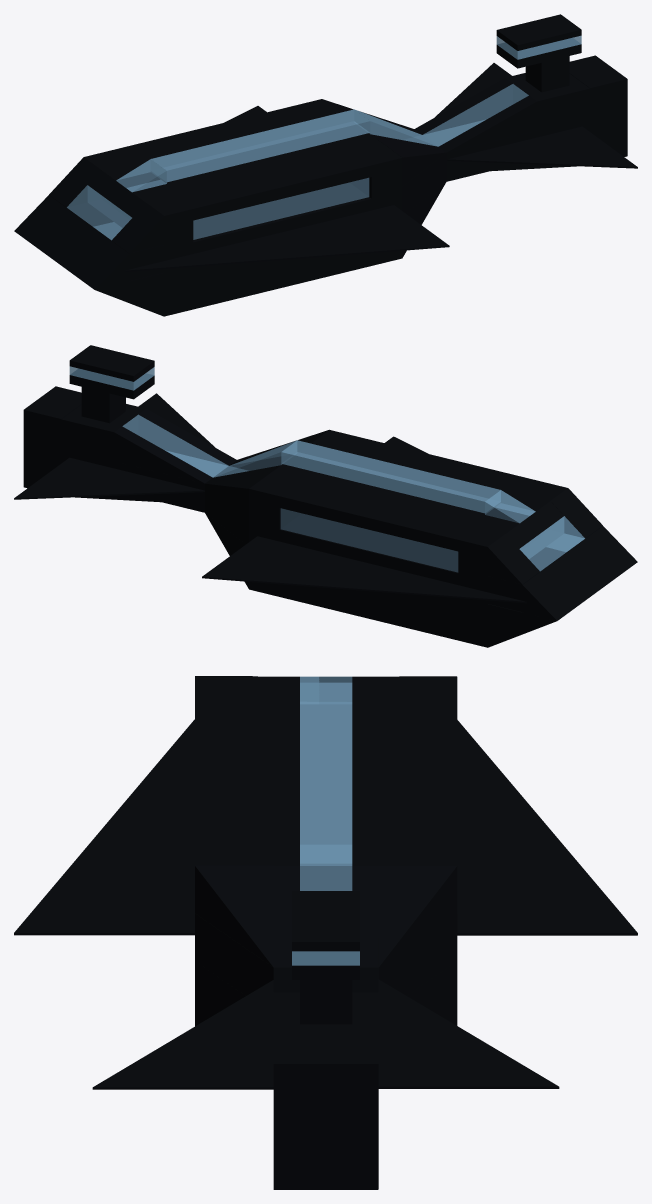
Rendered from RidgebackMesh.obj.
The picture shows the model from 3 angles, top to bottom: view 1: azimuth 30°, elevation 25°; view 2: azimuth 150°, elevation 25°; view 3: azimuth 270°, elevation 25°; orthographic projection. The views are drawn at different scales.
Visible parts, largest first — view 1: Part1, Platform1, Wing1, Window3, Wedge10, Wing4, Window4, Block1, Part4, Part5, Wedge2, Wedge3 (+20 smaller); view 2: Part1, Platform1, Wing3, Window3, Wedge10, Wing2, Window4, Block1, Part4, Part5, Wedge3, Wedge2 (+20 smaller); view 3: Part1, Wing1, Wing3, Block1, Wing4, Wing2, Window3, Cornerwedge11, Cornerwedge3, Wall1, Wedge18, Wedge14 (+10 smaller).
Boxes of the visible parts, left/top/right/bottom form: Part1: left=84, top=99, right=402, bottom=227; Platform1: left=164, top=183, right=402, bottom=316; Wing1: left=125, top=205, right=449, bottom=271; Window3: left=151, top=109, right=370, bottom=182; Wedge10: left=14, top=195, right=129, bottom=289; Wing4: left=447, top=126, right=637, bottom=168; Window4: left=193, top=178, right=369, bottom=239; Block1: left=569, top=55, right=627, bottom=156; Part4: left=505, top=73, right=589, bottom=130; Part5: left=406, top=117, right=589, bottom=181; Wedge2: left=439, top=95, right=536, bottom=152; Wedge3: left=414, top=78, right=512, bottom=134; Part1: left=249, top=430, right=567, bottom=558; Platform1: left=249, top=513, right=487, bottom=647; Wing3: left=202, top=536, right=526, bottom=603; Window3: left=281, top=440, right=500, bottom=513; Wedge10: left=522, top=526, right=637, bottom=620; Wing2: left=14, top=457, right=204, bottom=499; Window4: left=280, top=508, right=458, bottom=572; Block1: left=23, top=386, right=81, bottom=488; Part4: left=61, top=404, right=145, bottom=461; Part5: left=61, top=448, right=245, bottom=512; Wedge3: left=114, top=426, right=212, bottom=483; Wedge2: left=138, top=409, right=236, bottom=465; Part1: left=195, top=676, right=457, bottom=884; Wing1: left=14, top=719, right=194, bottom=935; Wing3: left=457, top=720, right=637, bottom=935; Block1: left=273, top=1034, right=378, bottom=1189; Wing4: left=92, top=980, right=273, bottom=1089; Wing2: left=378, top=979, right=559, bottom=1088; Window3: left=300, top=682, right=352, bottom=863; Cornerwedge11: left=378, top=866, right=457, bottom=967; Cornerwedge3: left=195, top=865, right=273, bottom=967; Wall1: left=292, top=891, right=359, bottom=951; Wedge18: left=195, top=913, right=273, bottom=995; Wedge14: left=378, top=914, right=456, bottom=995.
Size of the model in its own units: 49.94 by 14.39 by 29.71.
